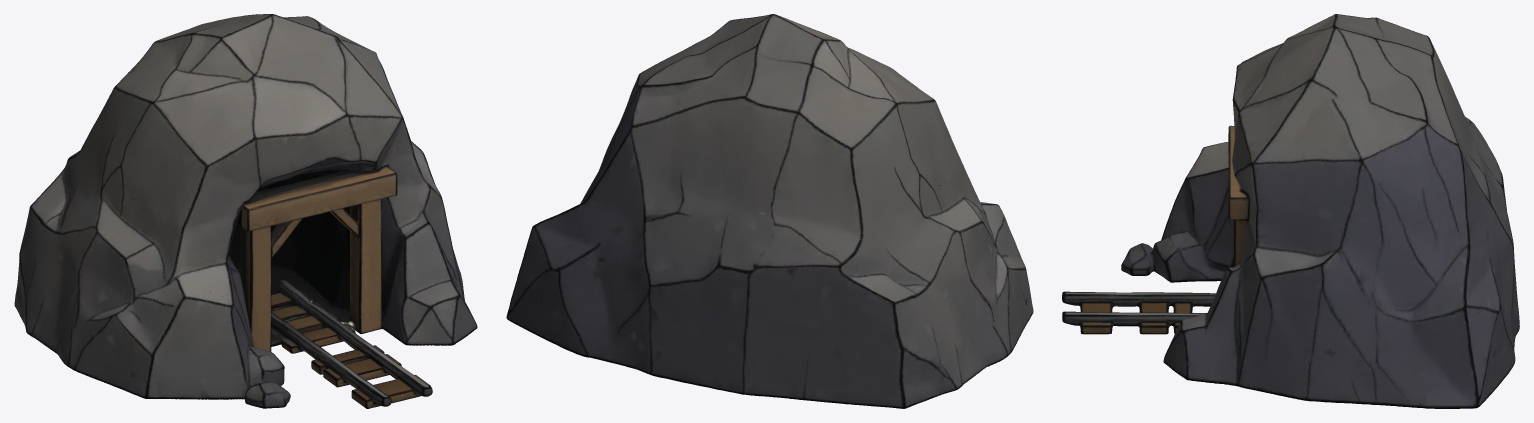
File: mine.glb
The picture shows the model from 3 angles, left to right: view 1: azimuth 30°, elevation 25°; view 2: azimuth 150°, elevation 25°; view 3: azimuth 270°, elevation 25°; orthographic projection. The views are drawn at different scales.
Visible parts, largest first — view 1: world; view 2: world; view 3: world.
Part boxes in pixels (<box>): world: <box>14,14,477,408</box>; world: <box>506,14,1033,408</box>; world: <box>1062,14,1519,408</box>.
Size of the model in its own units: 1 by 0.6919 by 0.9795.
Materials: 1 (1 with a texture image).
